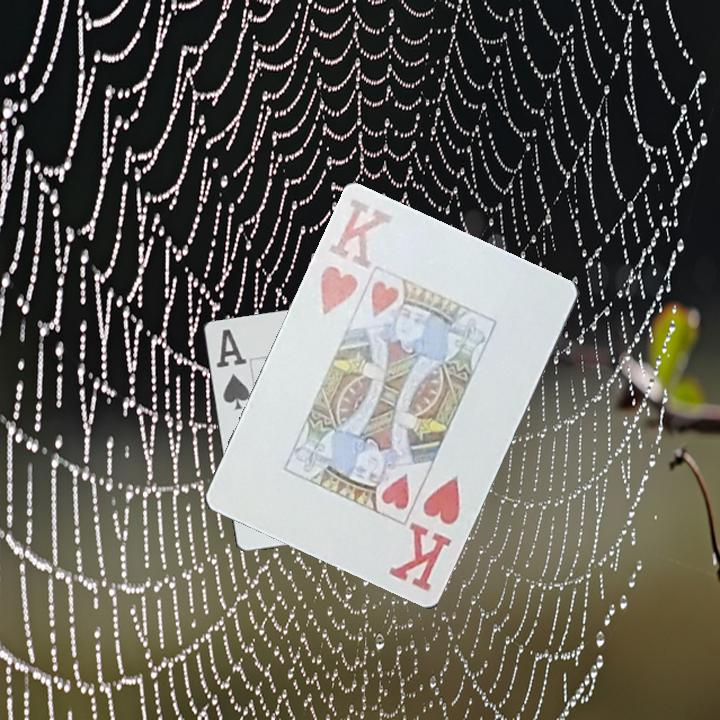As: (212, 325, 252, 413)
Kh: (314, 195, 396, 319), (385, 471, 464, 595)
